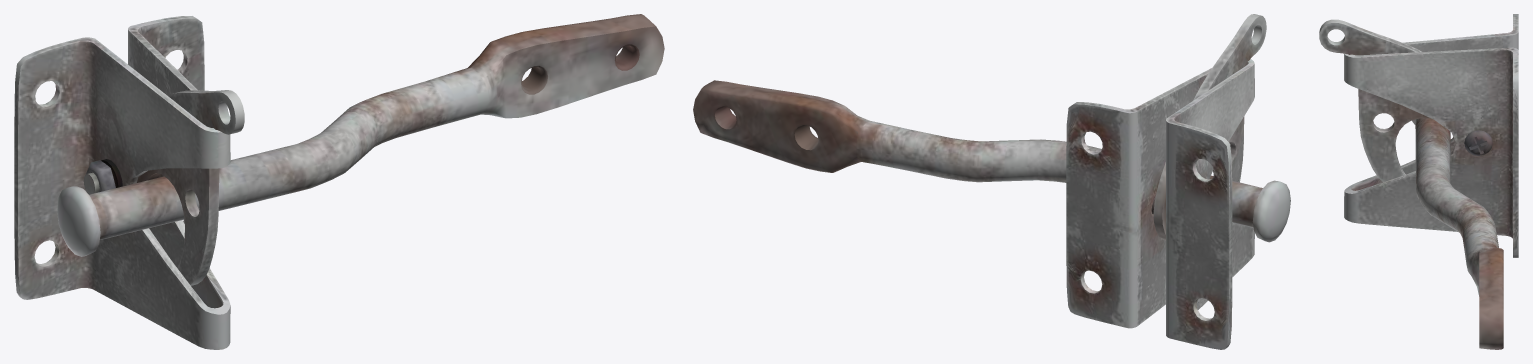
3 renders of one model, left to right at view 1: azimuth 30°, elevation 25°; view 2: azimuth 150°, elevation 25°; view 3: azimuth 270°, elevation 25°, orthographic. The views are drawn at different scales.
Visible parts, largest first — view 1: gate_latch_01_frame, gate_latch_01_latch, gate_latch_01_hook; view 2: gate_latch_01_frame, gate_latch_01_latch, gate_latch_01_hook; view 3: gate_latch_01_frame, gate_latch_01_latch, gate_latch_01_hook.
Boxes of the visible parts, x1=… form: gate_latch_01_frame: x1=14, y1=16, x2=230, y2=349; gate_latch_01_latch: x1=57, y1=14, x2=664, y2=256; gate_latch_01_hook: x1=137, y1=90, x2=244, y2=285; gate_latch_01_frame: x1=1066, y1=59, x2=1254, y2=349; gate_latch_01_latch: x1=693, y1=80, x2=1290, y2=242; gate_latch_01_hook: x1=1153, y1=14, x2=1266, y2=240; gate_latch_01_frame: x1=1344, y1=14, x2=1518, y2=257; gate_latch_01_latch: x1=1411, y1=118, x2=1503, y2=349; gate_latch_01_hook: x1=1319, y1=19, x2=1430, y2=182.
Bounding box in the file's own units: 0.2051 × 0.0854 × 0.0747.
1 material, 1 textured.
